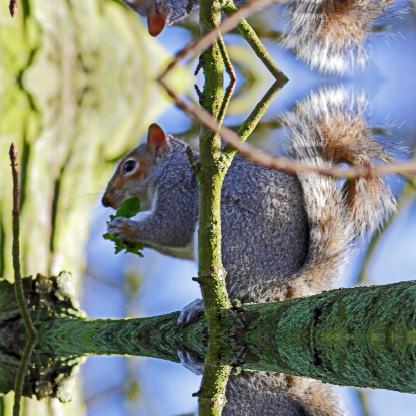Squirrel: (63, 80, 415, 326), (63, 0, 416, 79), (63, 345, 416, 415)
